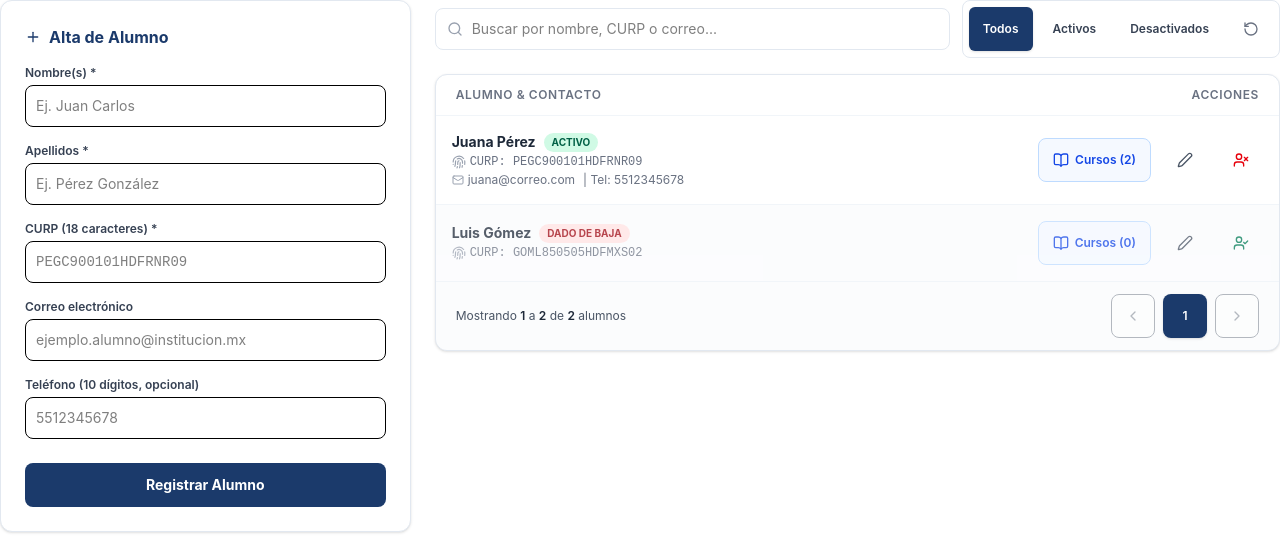
it: ModuloAlumnos › listado y filtros › el botón de limpiar filtros restablece búsqueda y filtro de estado
The image size is (1280, 550).
Type "Juana" into the search field named "buscar alumnos".
click(692, 29); type("Juana")  # box [435, 8, 950, 50]
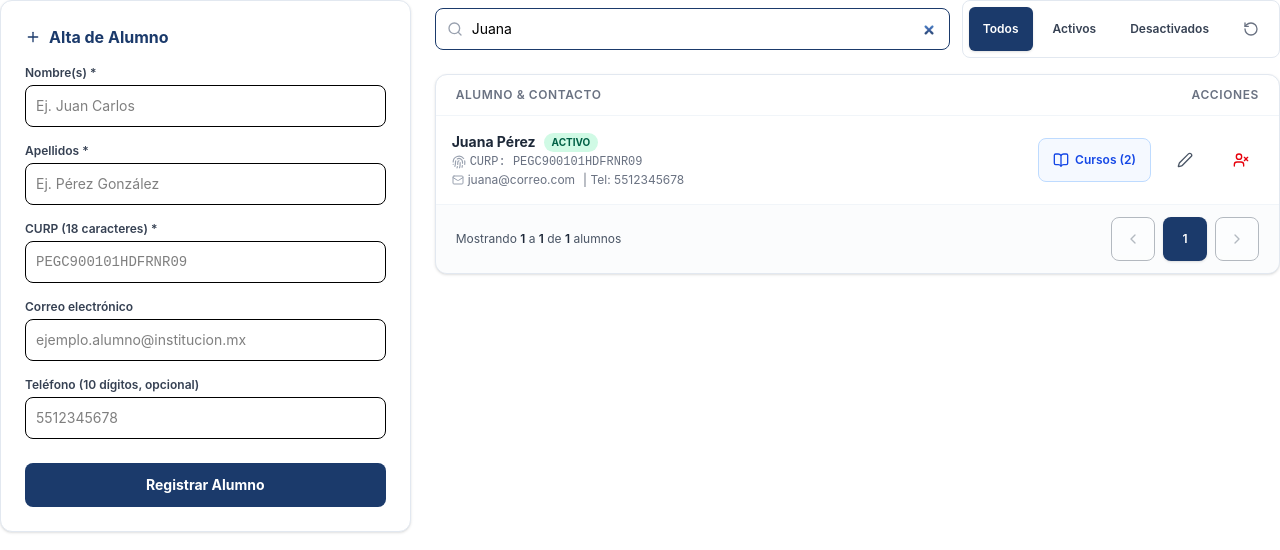
Click the button "activos".
click(1074, 29)  # box [1038, 7, 1110, 51]
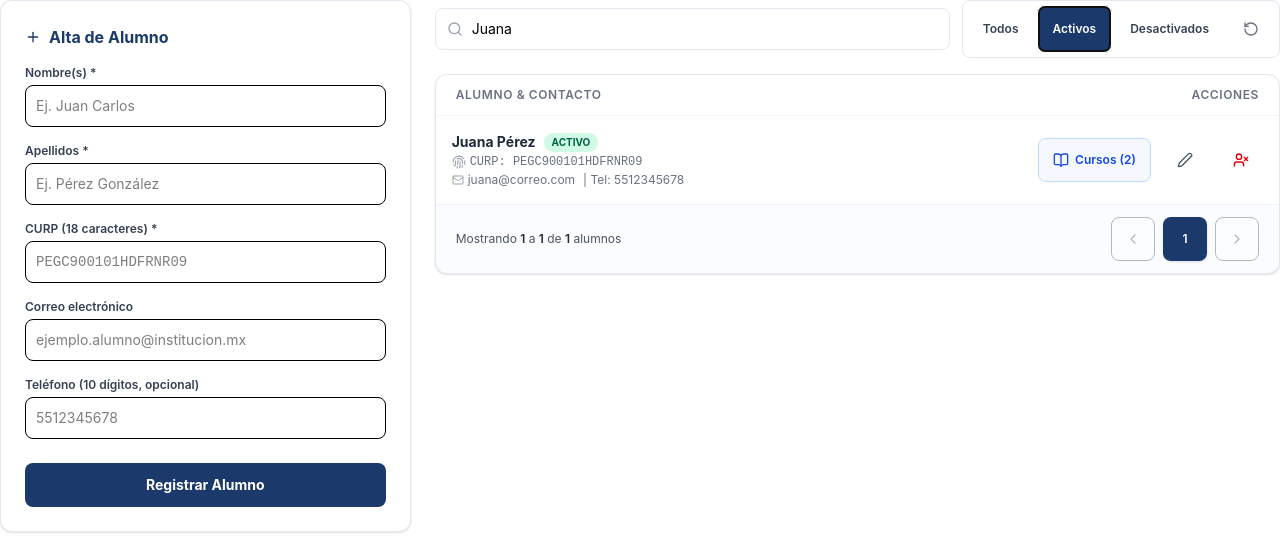
Click the button named "limpiar filtros de alumnos".
click(1251, 29)  # box [1229, 7, 1273, 51]
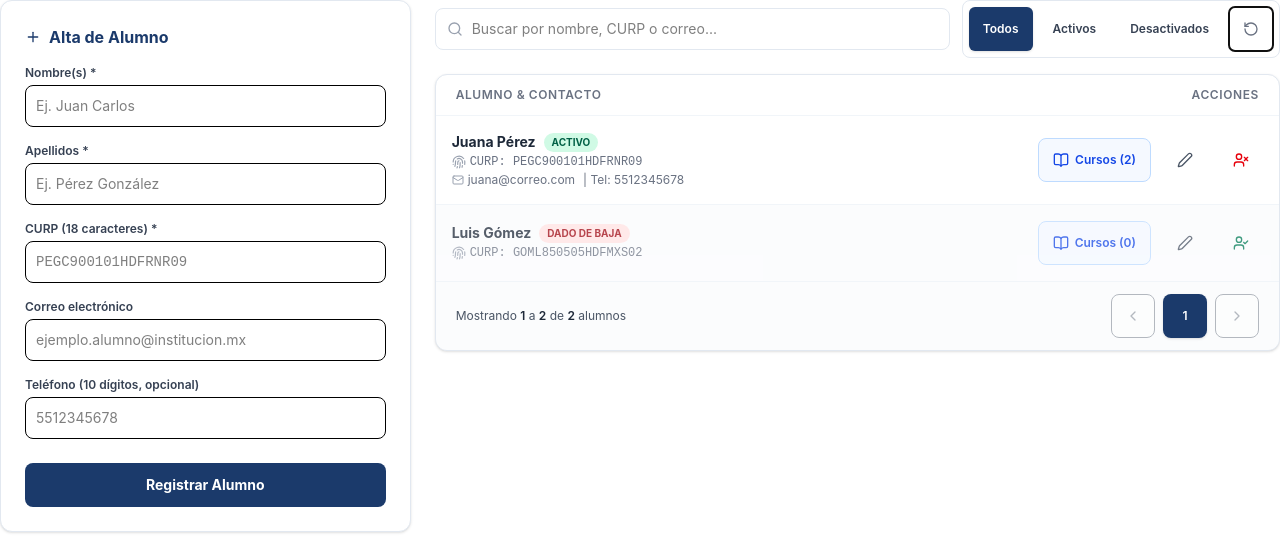
Expected: the text "Juana Pérez" is shown, [452, 132, 536, 152]
Expected: the search field named "buscar alumnos" is empty, [435, 8, 950, 50]
Expected: the text "Luis Gómez" is shown, [452, 223, 531, 243]
